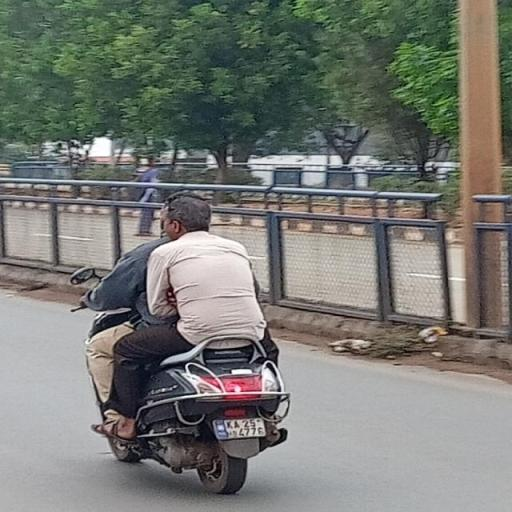bike: (65, 190, 301, 492)
numberplate: (216, 417, 266, 440)
withouthelmet: (163, 198, 212, 234)
